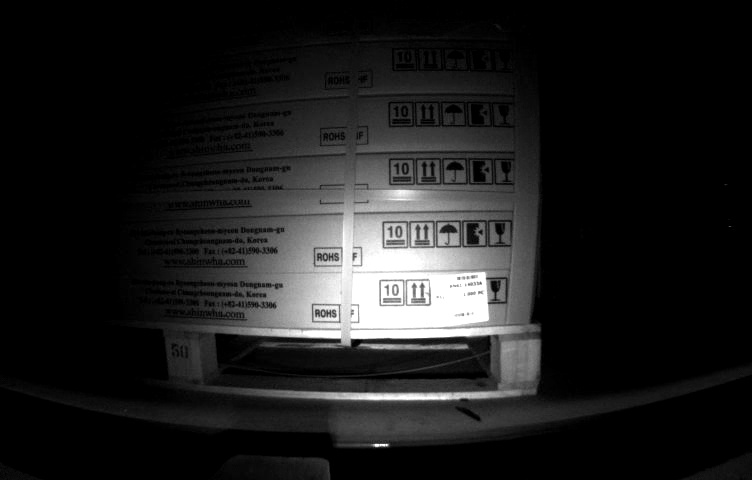True Barcode: (433, 269, 490, 324)
